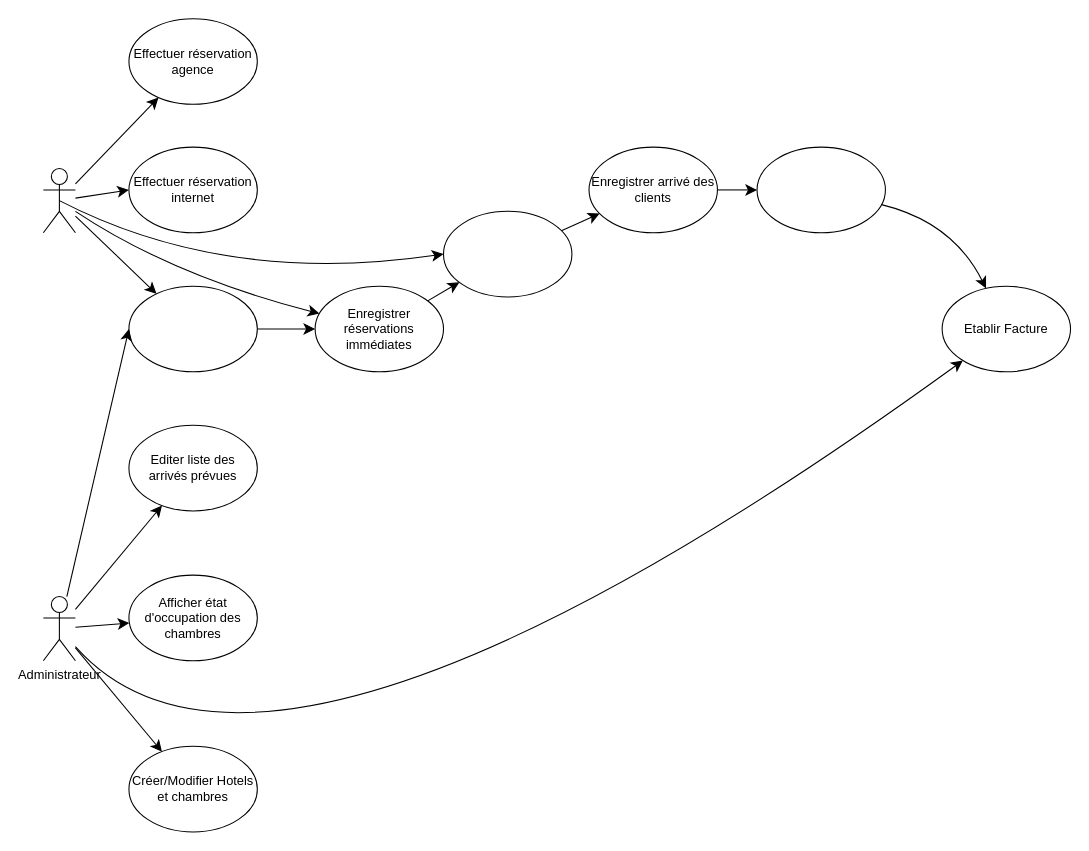
This 1089x851 diagram has some shape labels left out. The centre of each missing label's shape, as x and y in pixels:
Client: the point at 58,200
Consulter disponibilités: the point at 192,328
Enregister consommation: the point at 820,189
Enregistrer Arrhes: the point at 507,253
